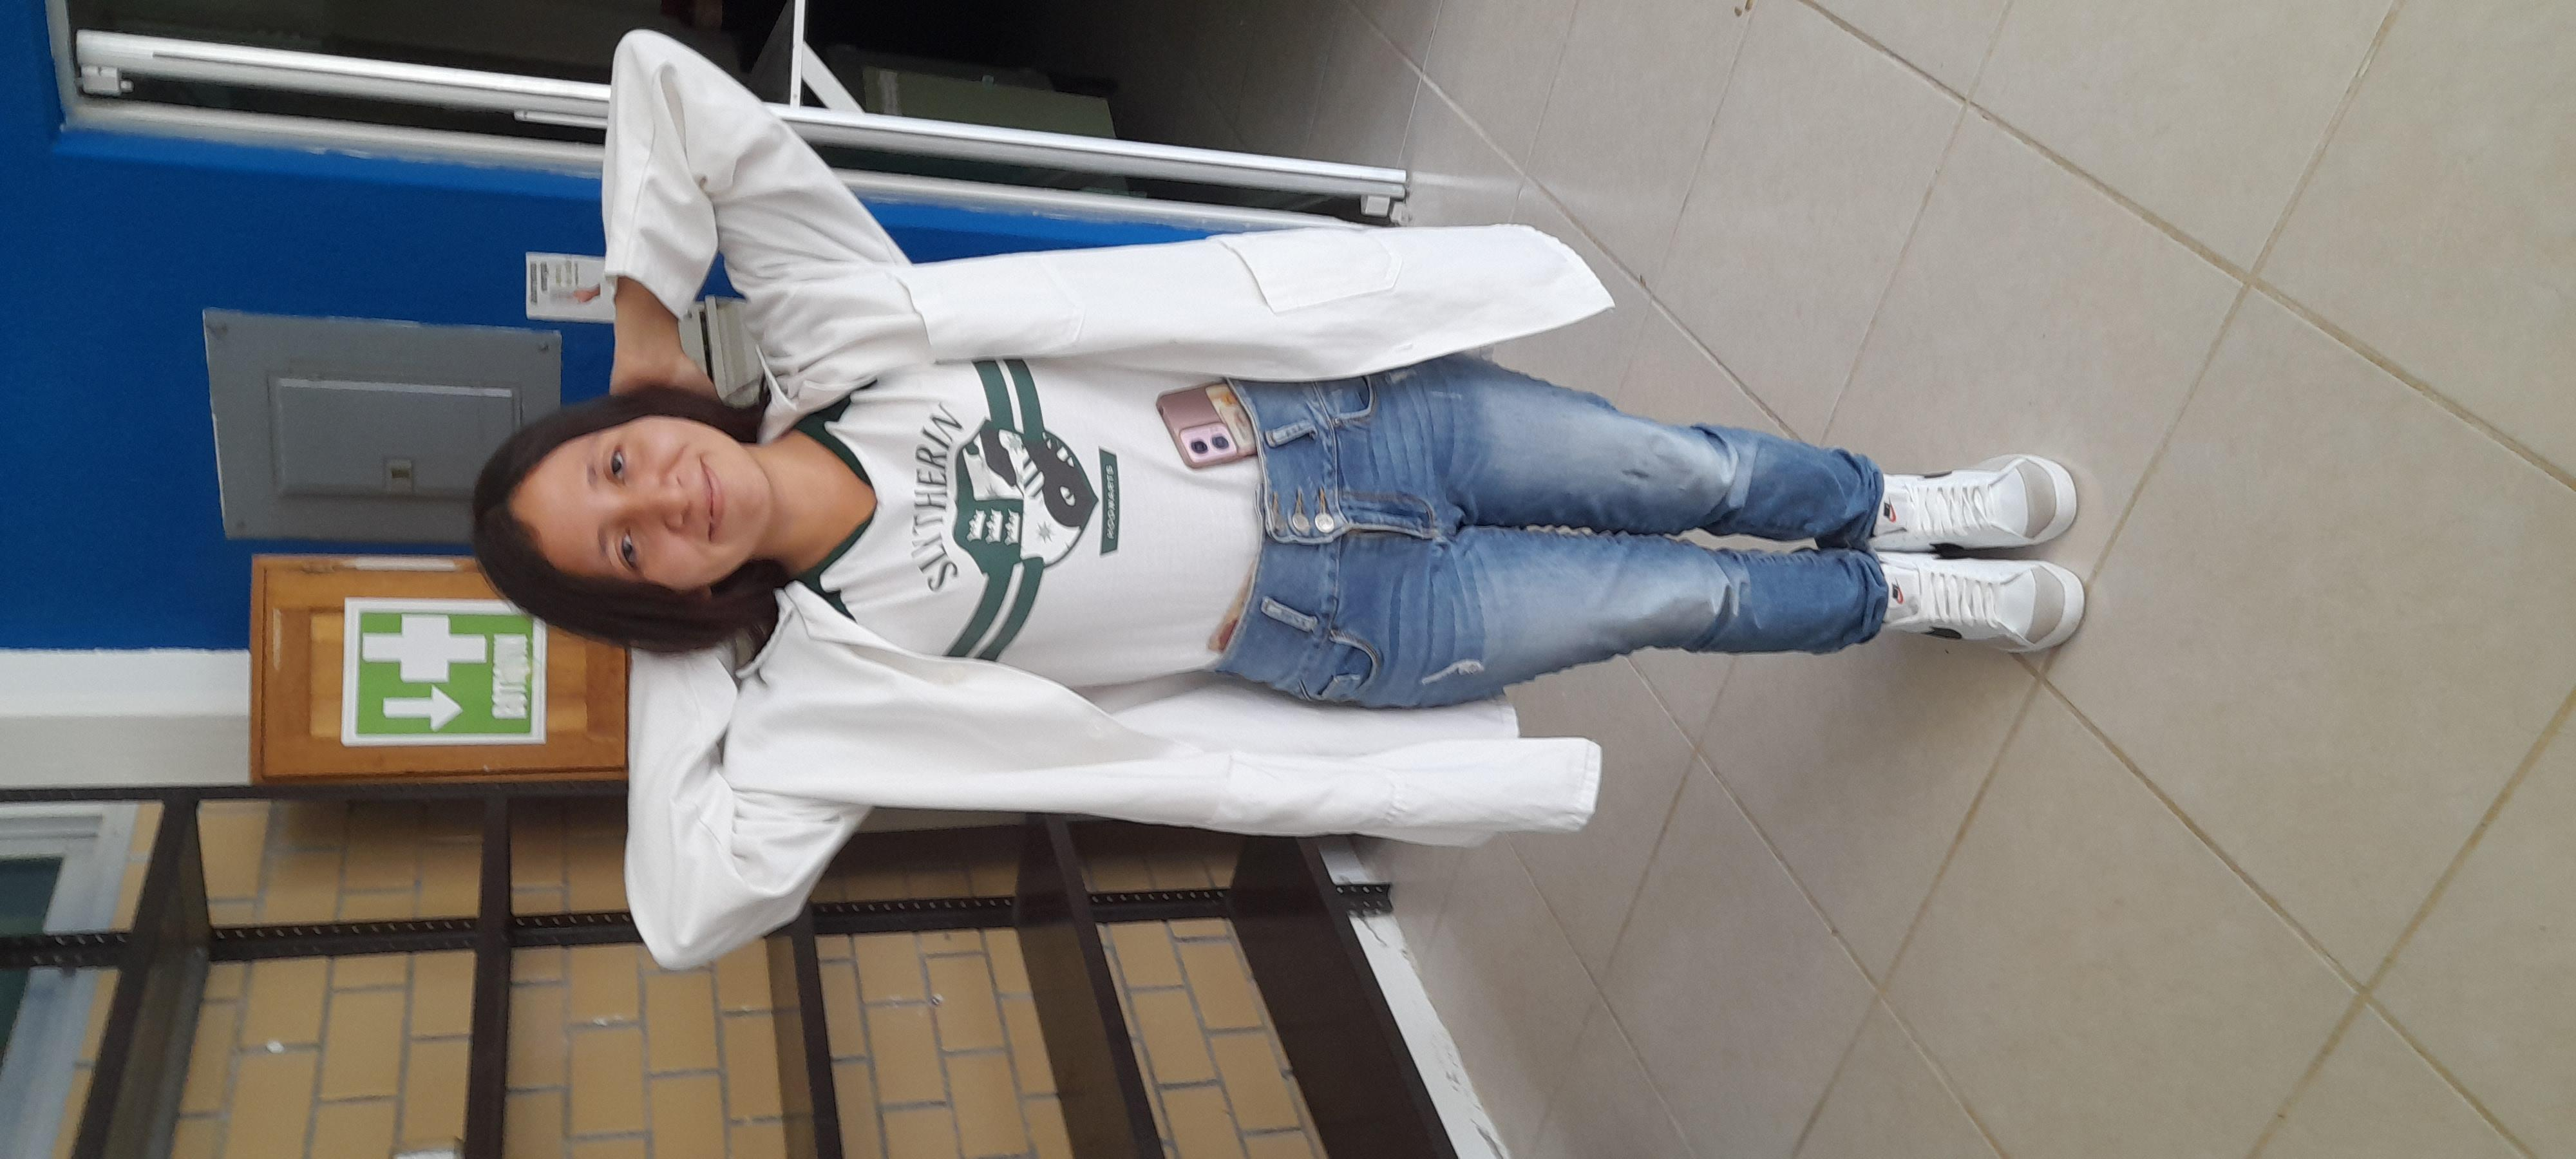Bata-Incorrecta: (343, 212, 2561, 992)
